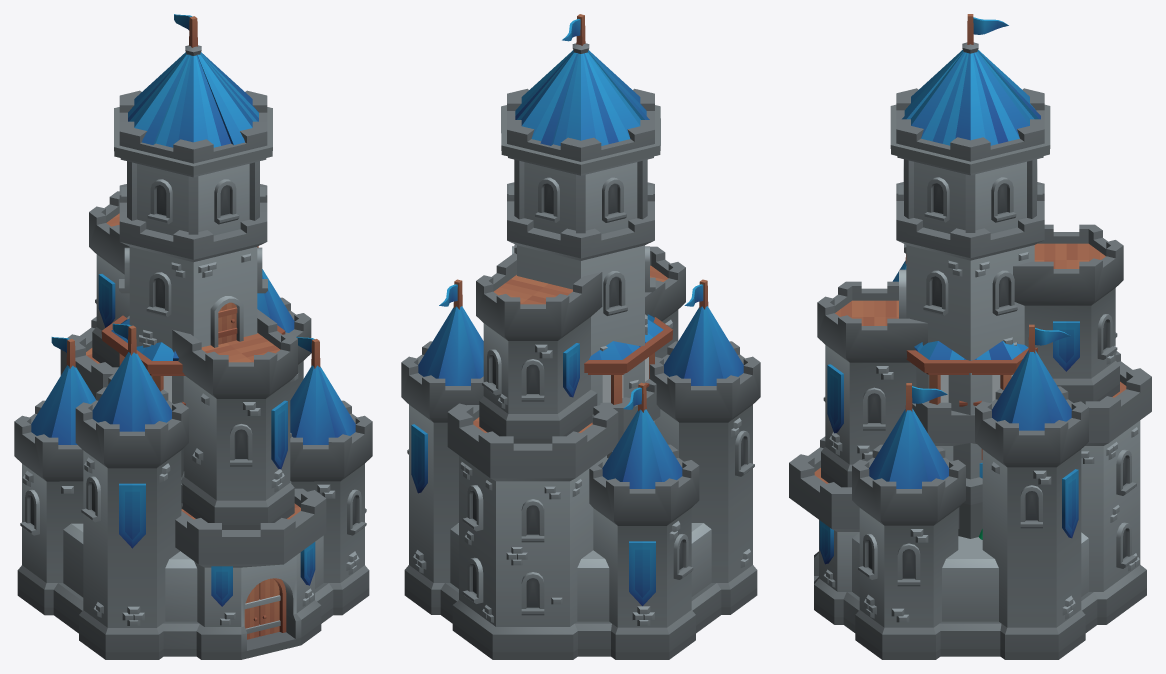
The model's file is kit.glb.
The picture shows the model from 3 angles, left to right: view 1: azimuth 30°, elevation 25°; view 2: azimuth 150°, elevation 25°; view 3: azimuth 270°, elevation 25°; orthographic projection.
Parts seen in each view (by area): view 1: castle, building_tower_A_top_blue; view 2: castle, building_tower_A_top_blue, building_tower_A_blue; view 3: castle, building_tower_A_top_blue, building_tower_A_blue.
Boxes of the visible parts, x1,y1,x2,y2 form: castle: (14,14,372,659); building_tower_A_top_blue: (101,315,285,405); castle: (401,14,760,659); building_tower_A_top_blue: (584,314,672,404); building_tower_A_blue: (592,379,660,441); castle: (789,14,1151,659); building_tower_A_top_blue: (906,341,1037,406); building_tower_A_blue: (912,401,982,478).
Size of the model in its own units: 1.98 by 4.08 by 2.26.
1 material, 1 textured.
